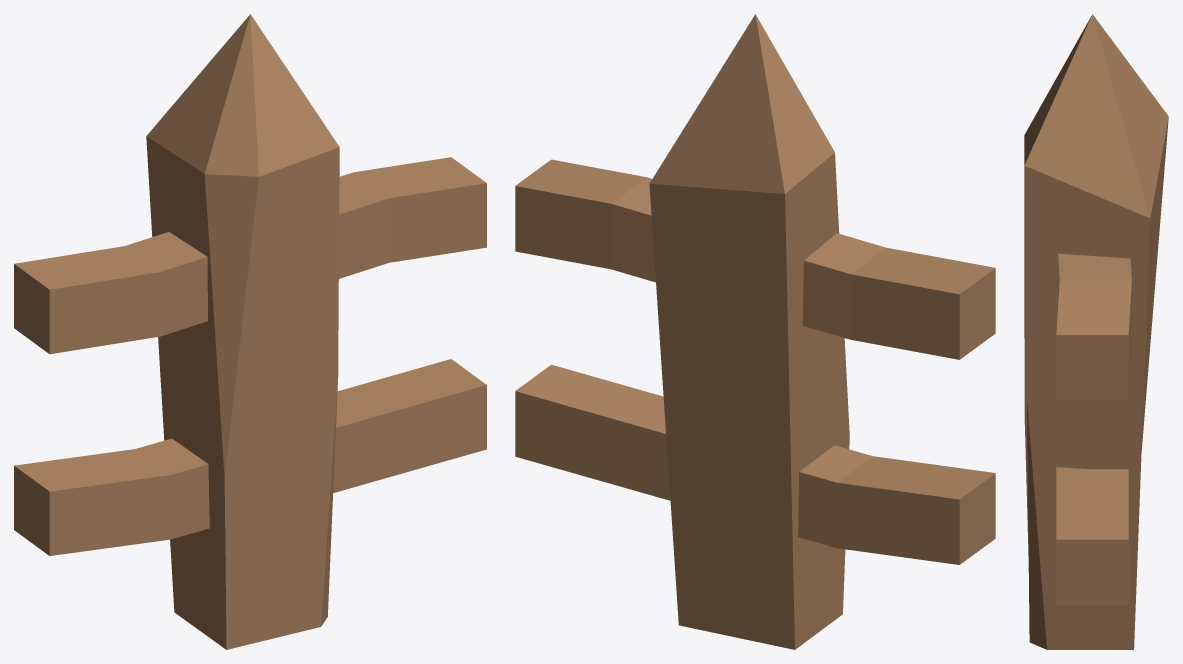
File: fence_1.glb
3 renders of one model, left to right at view 1: azimuth 30°, elevation 25°; view 2: azimuth 150°, elevation 25°; view 3: azimuth 270°, elevation 25°, orthographic.
Parts seen in each view (by area): view 1: fence_1; view 2: fence_1; view 3: fence_1.
Part boxes in pixels (box(x1,y1,x2,y2)): fence_1: box(14, 14, 486, 649); fence_1: box(515, 14, 995, 649); fence_1: box(1024, 14, 1168, 649).
Size of the model in its own units: 1.96 by 2.57 by 0.5539.
